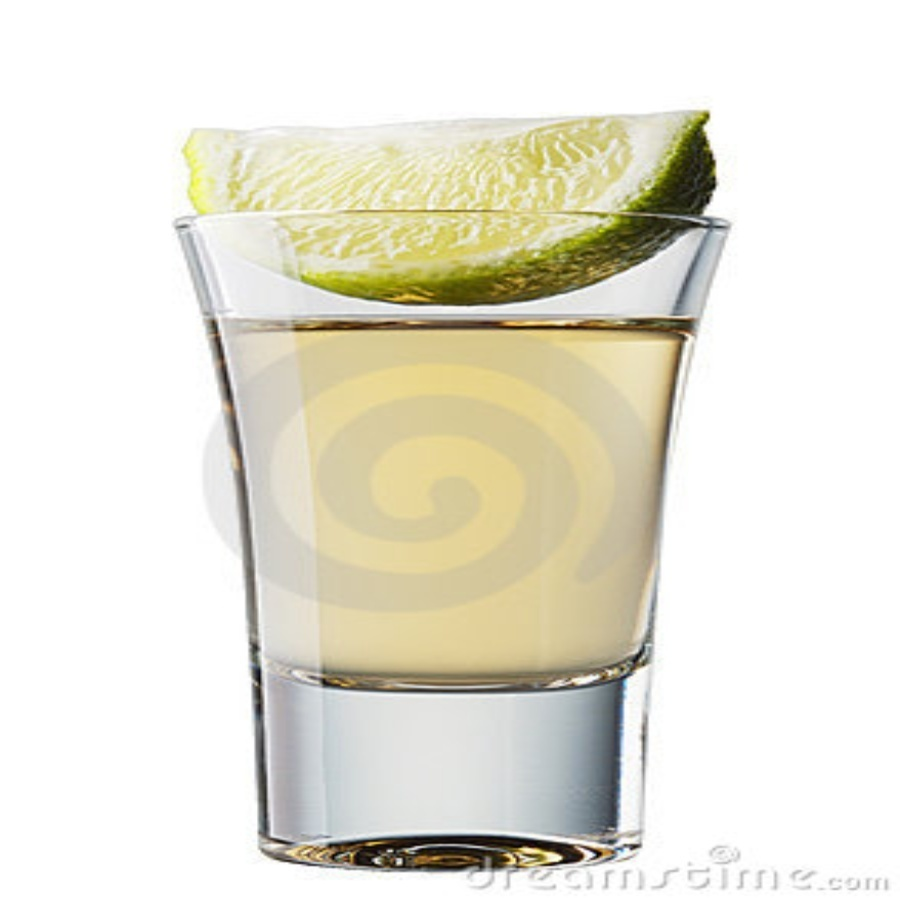whiskey: (198, 196, 735, 878)
